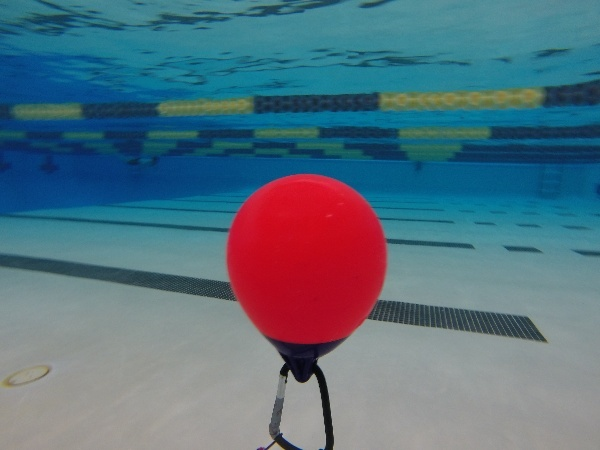buoy_red: (218, 166, 393, 388)
